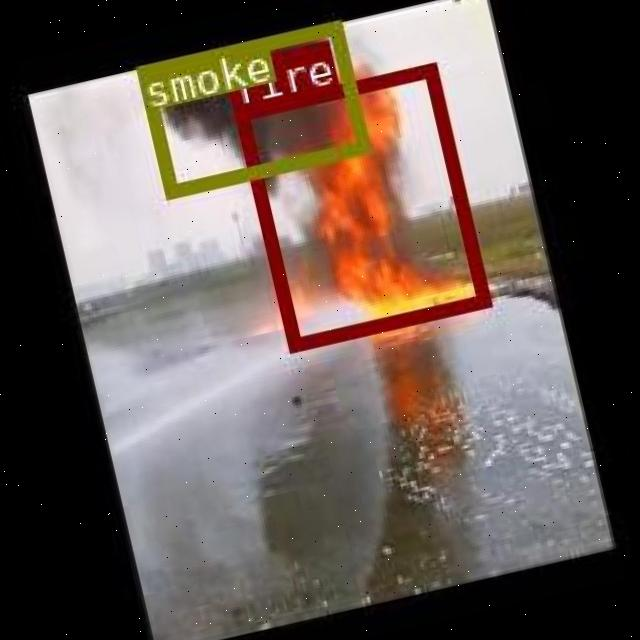fire: (230, 61, 487, 350)
smoke: (134, 21, 366, 198)
